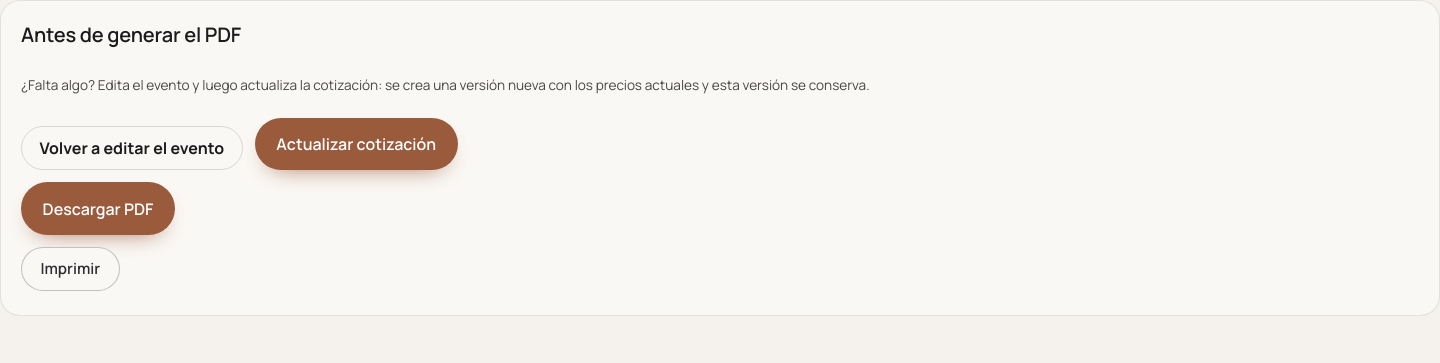
Test: QuoteActions (DECOR-51) › DECOR-55: si hay una versión más nueva muestra el aviso de recargar y no navega
What coordinates should you click on to do the following:
click the button "Actualizar cotización"
I would click on:
 (356, 144)
Its box is top-left (255, 118), bottom-right (458, 170).
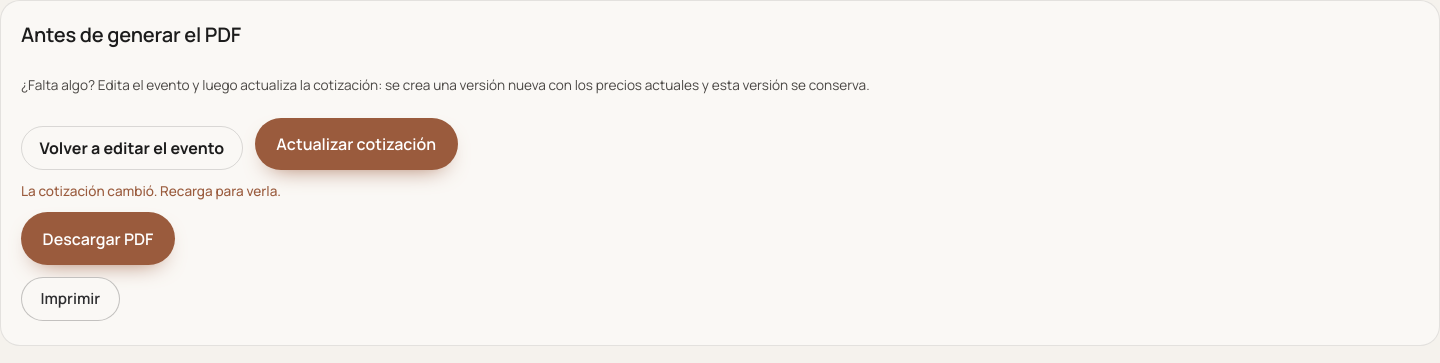
Result: the message shows "Recarga" at top-left (21, 182), bottom-right (281, 200)
